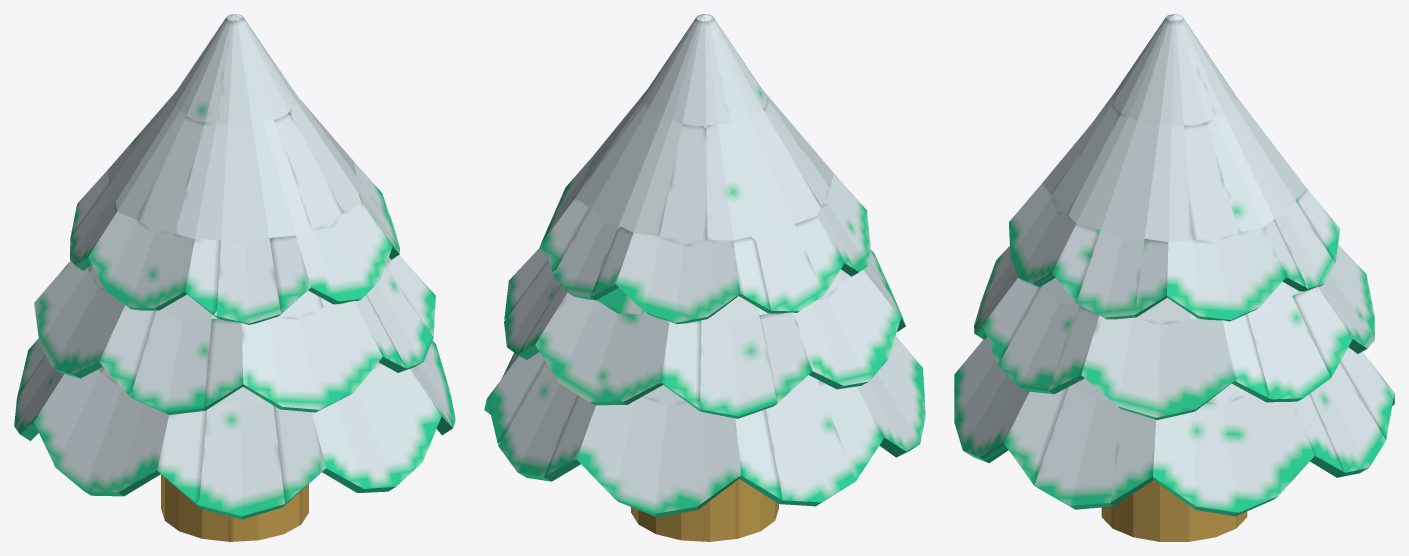
File: treeSemiSnow1.fbx
3 views of the same model, side by side, from view 1: azimuth 30°, elevation 25°; view 2: azimuth 150°, elevation 25°; view 3: azimuth 270°, elevation 25° (orthographic).
Parts seen in each view (by area): view 1: leaf6, leaf4, leaf5, woodTree; view 2: leaf6, leaf4, leaf5, woodTree; view 3: leaf6, leaf4, leaf5, woodTree.
Boxes of the visible parts, x1,y1,x2,y2 form: leaf6: (70,14,399,324); leaf4: (14,338,455,519); leaf5: (34,255,435,414); woodTree: (161,474,308,541); leaf6: (539,14,870,323); leaf4: (484,336,925,517); leaf5: (504,125,905,418); woodTree: (631,479,778,541); leaf6: (1009,14,1339,321); leaf4: (954,337,1394,516); leaf5: (974,244,1374,419); woodTree: (1101,480,1247,541).
Bounding box in the file's own units: 251 × 313 × 251.
1 material, 1 textured.
